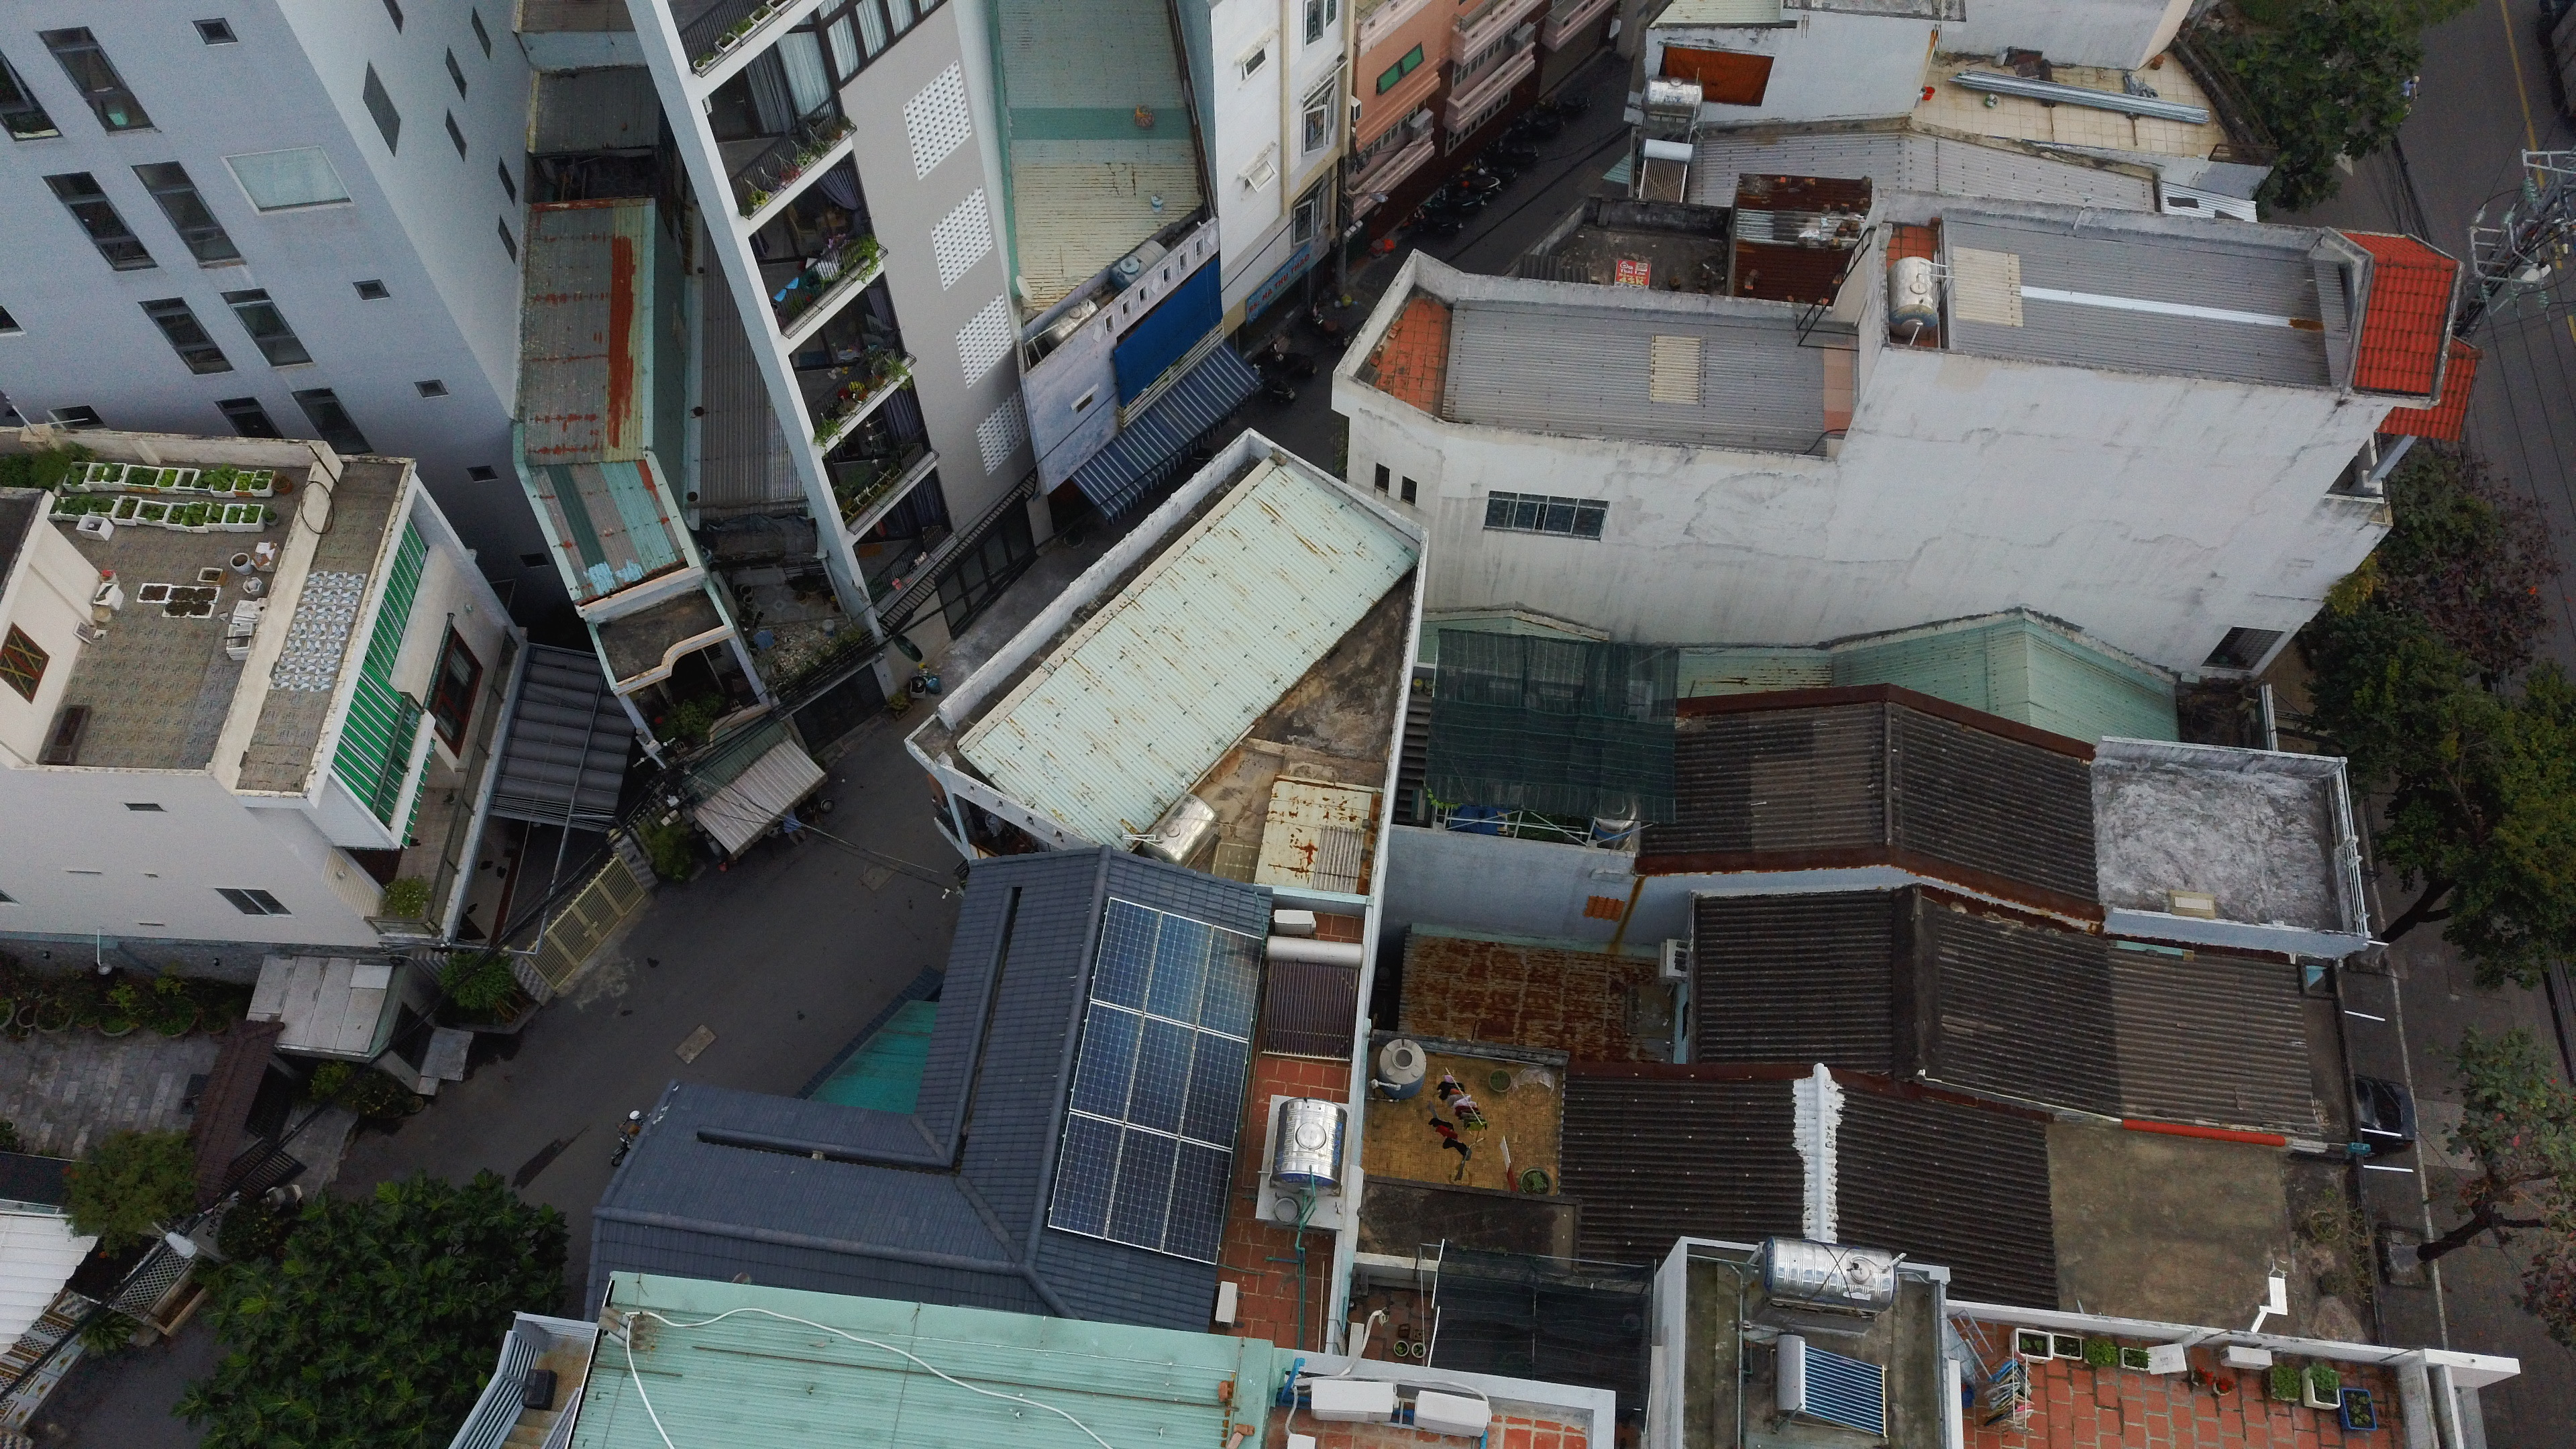solar: (1044, 1108, 1129, 1242), (1065, 989, 1146, 1127), (1120, 1008, 1201, 1141), (1106, 1122, 1184, 1254), (1157, 1141, 1238, 1265), (1178, 1021, 1251, 1152), (1196, 915, 1269, 1046), (1143, 899, 1215, 1030), (1088, 888, 1162, 1014)
